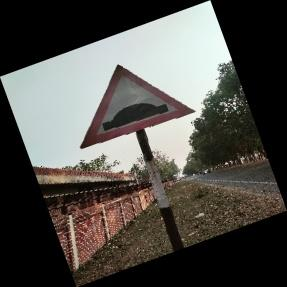Speed-breaker: (80, 64, 197, 148)
